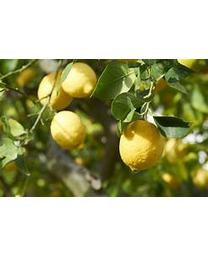lemon: (120, 119, 165, 174), (50, 113, 86, 151), (39, 72, 74, 111), (61, 64, 97, 98)
